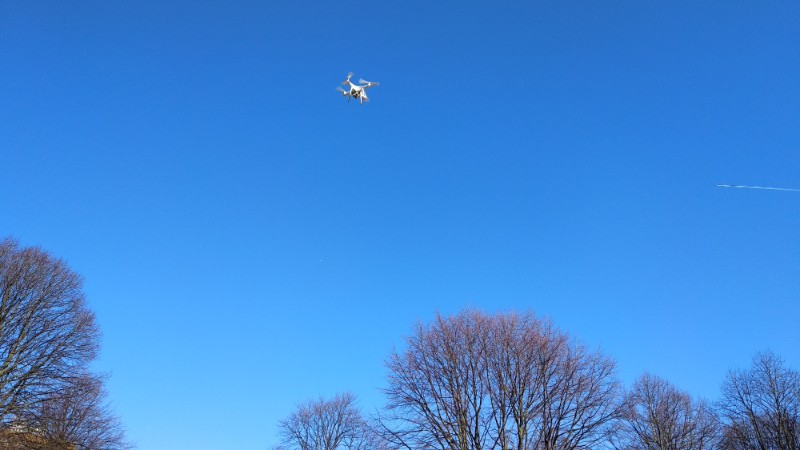drone: (335, 72, 382, 105)
